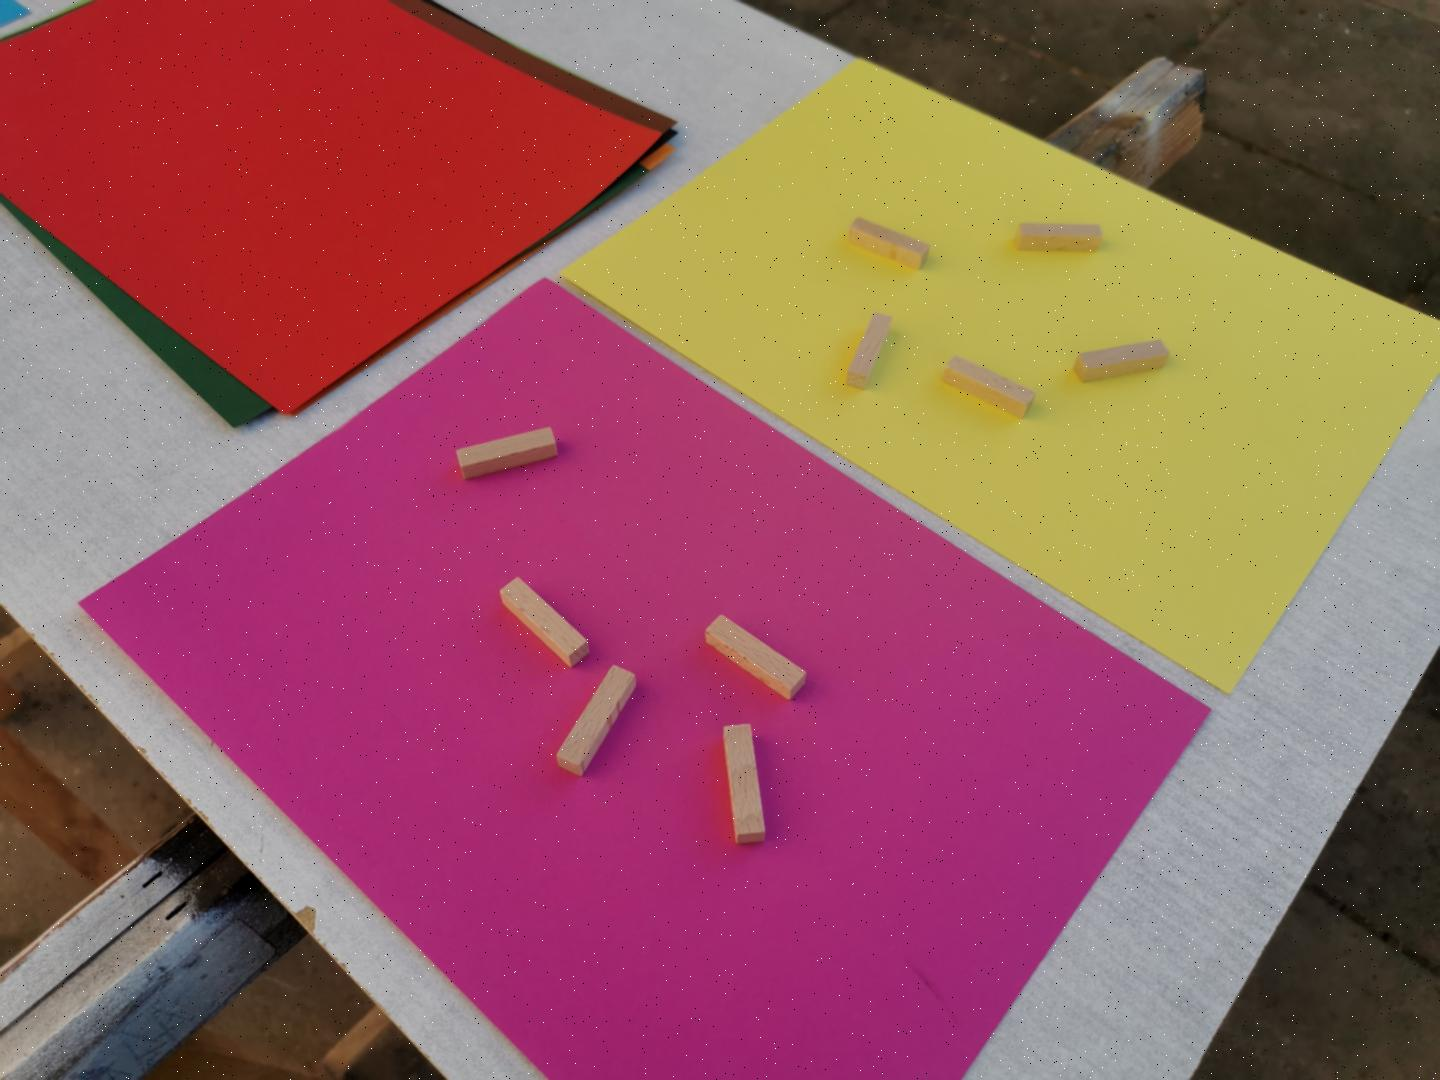jenga: (557, 667, 636, 776), (706, 616, 804, 700), (501, 580, 587, 667), (942, 357, 1035, 416), (722, 726, 765, 844), (456, 428, 557, 478), (849, 217, 929, 270), (1075, 340, 1167, 382), (847, 312, 891, 388), (1015, 222, 1102, 251)
